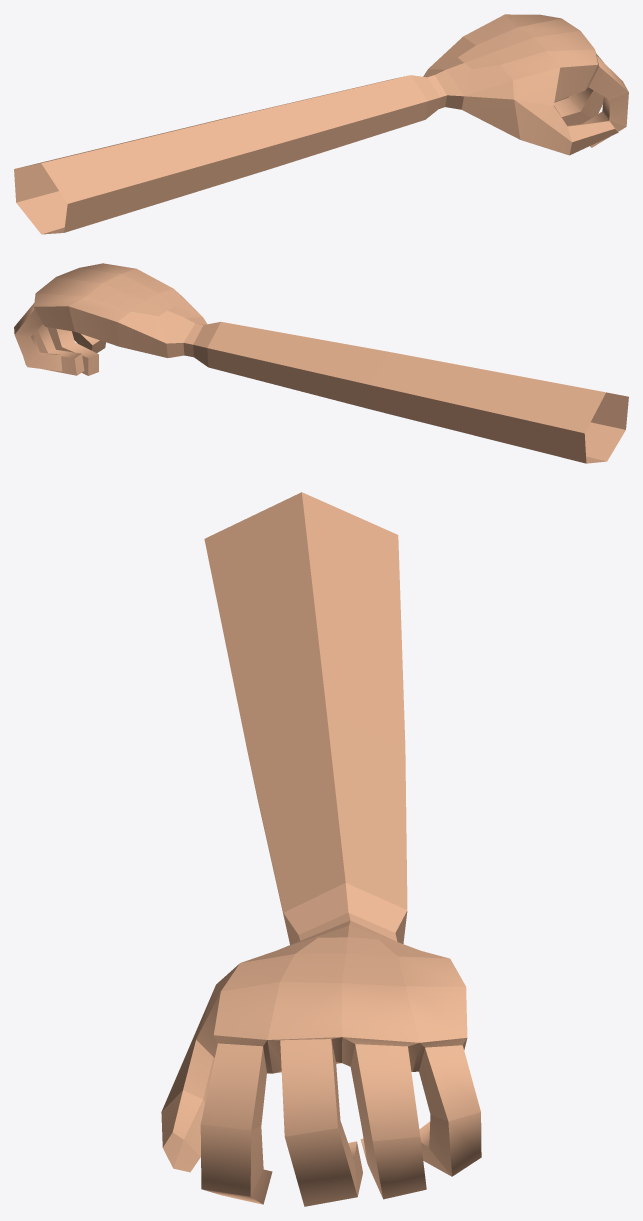
File: Closed_Hand.fbx
The picture shows the model from 3 angles, top to bottom: view 1: azimuth 30°, elevation 25°; view 2: azimuth 150°, elevation 25°; view 3: azimuth 270°, elevation 25°; orthographic projection. The views are drawn at different scales.
Parts seen in each view (by area): view 1: Box001; view 2: Box001; view 3: Box001.
Boxes of the visible parts, x1,y1,x2,y2 form: Box001: [14, 14, 628, 234]; Box001: [14, 263, 628, 463]; Box001: [161, 492, 481, 1206].
Bounding box in the file's own units: 52.36 × 8.86 × 12.85.
